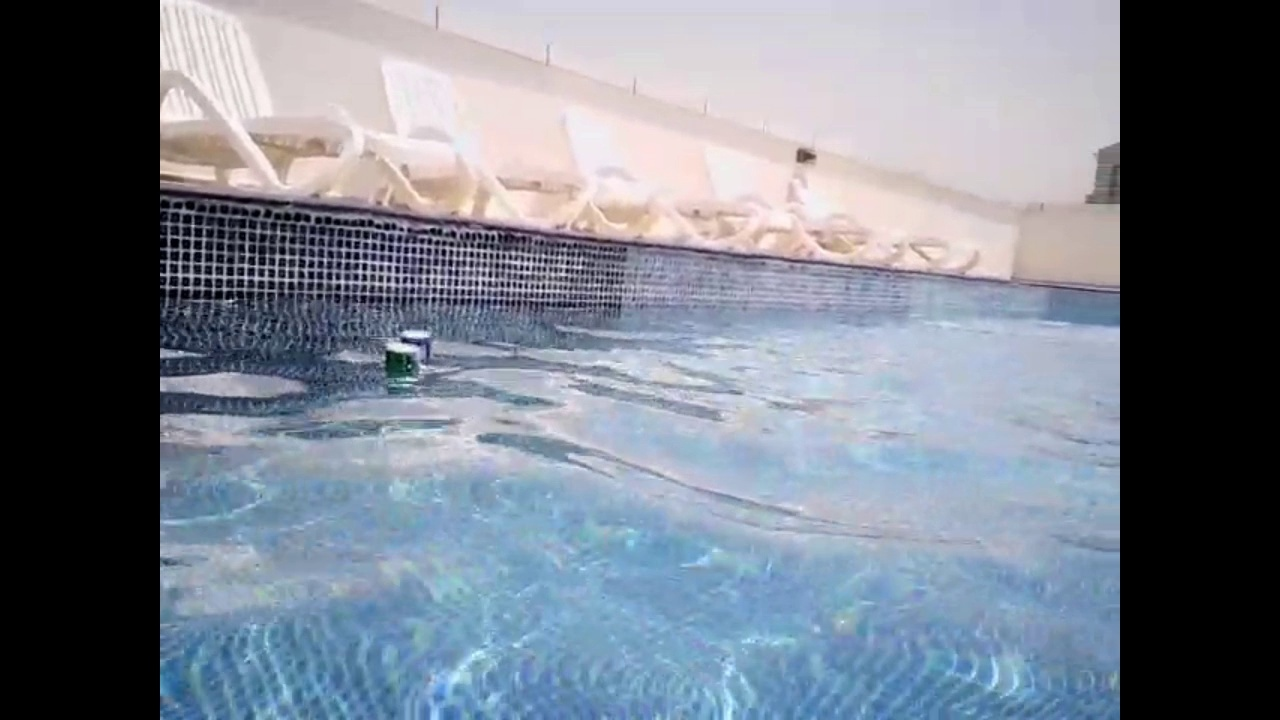debris: (398, 322, 435, 379), (381, 336, 418, 392)
